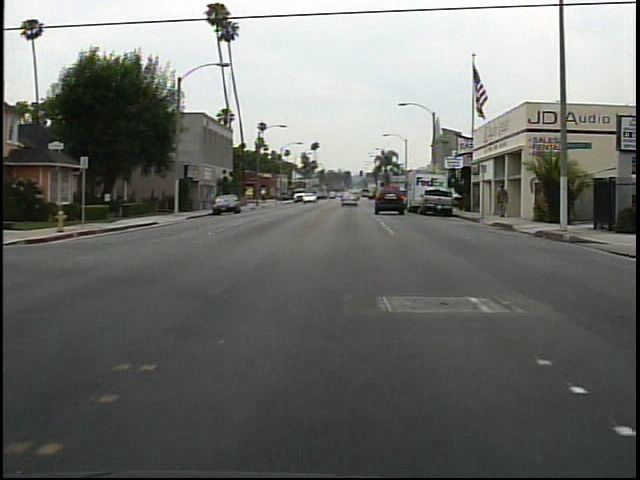person: (492, 184, 512, 222)
